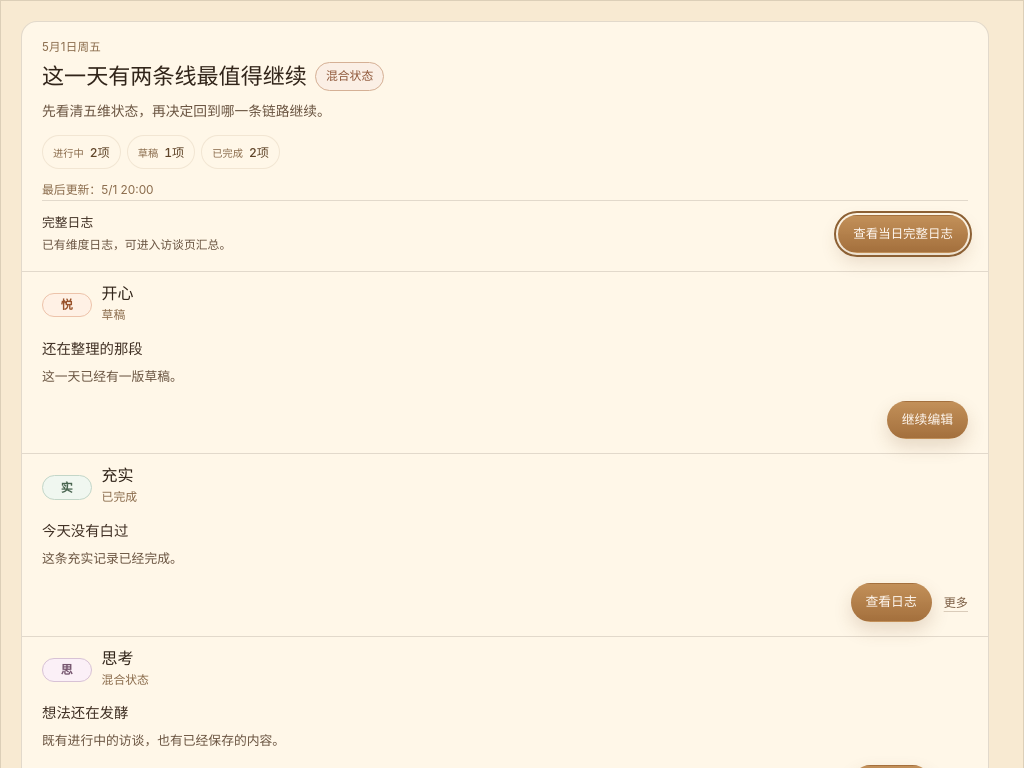
calendar day shell › traps focus in the daily journal prompt and restores focus on close
The image size is (1024, 768).
Click the button "查看当日完整日志" at (903, 234), box top-left (838, 215), bottom-right (968, 253)
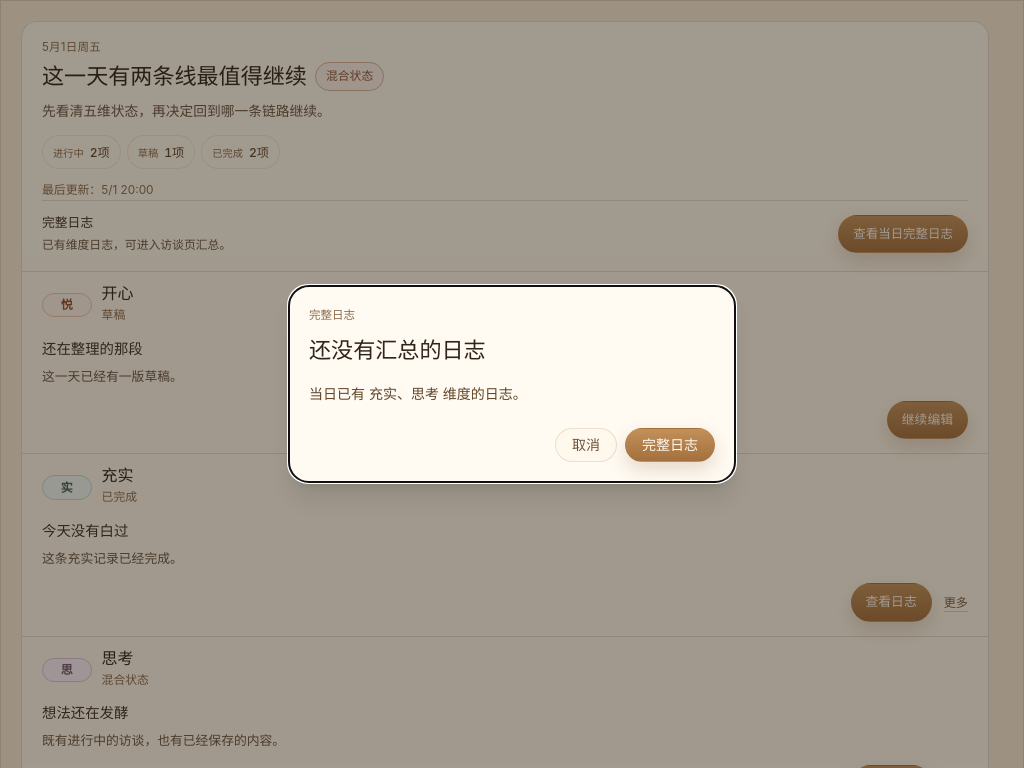
Press Tab
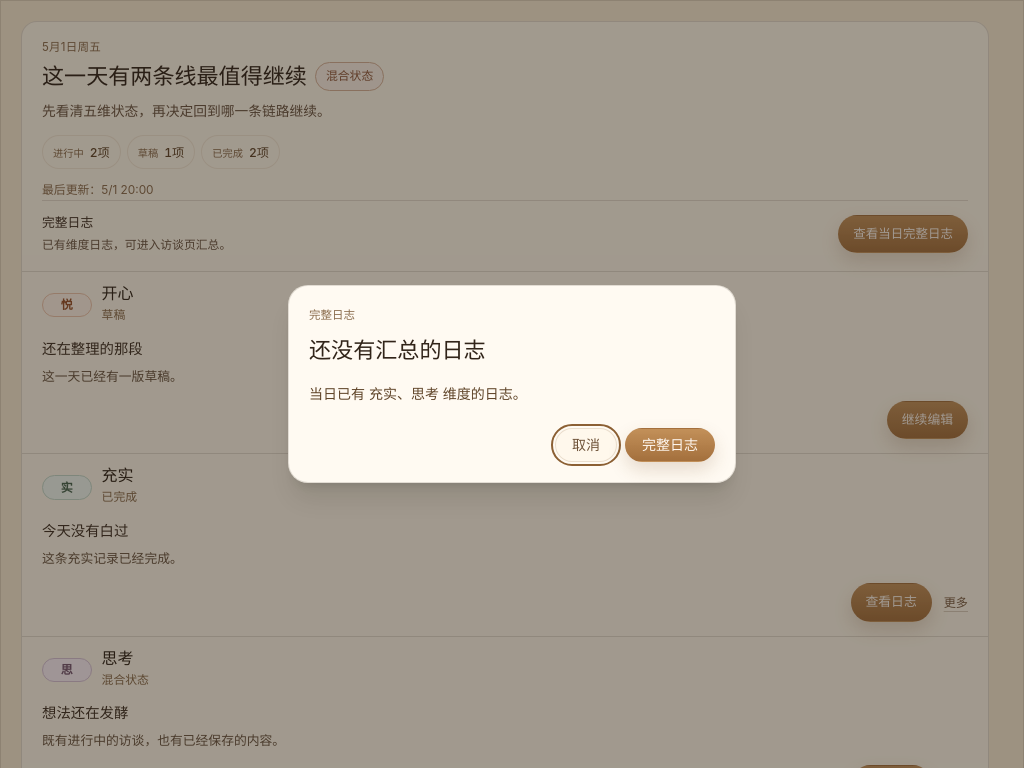
Press Tab
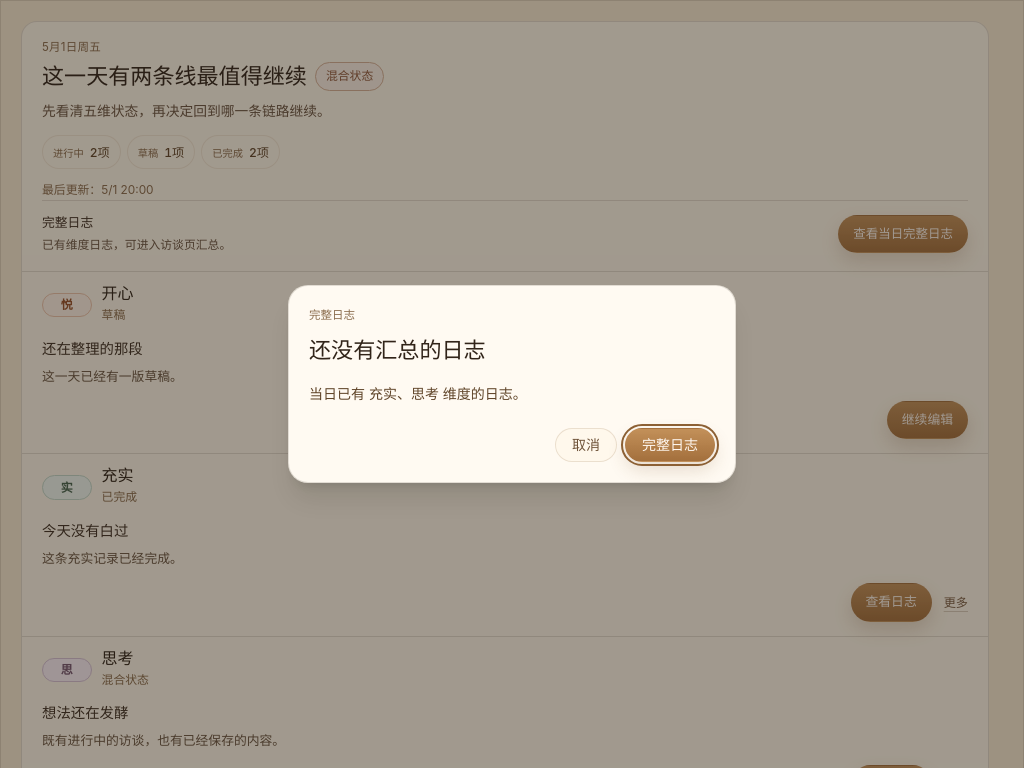
Press Tab
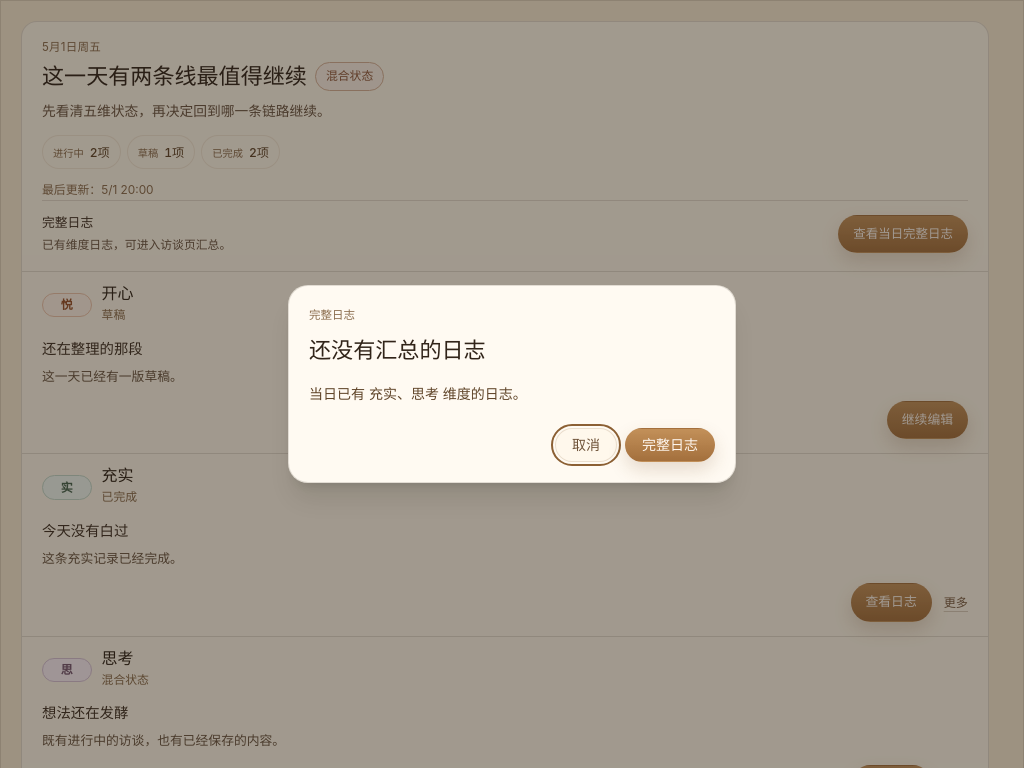
Press Escape
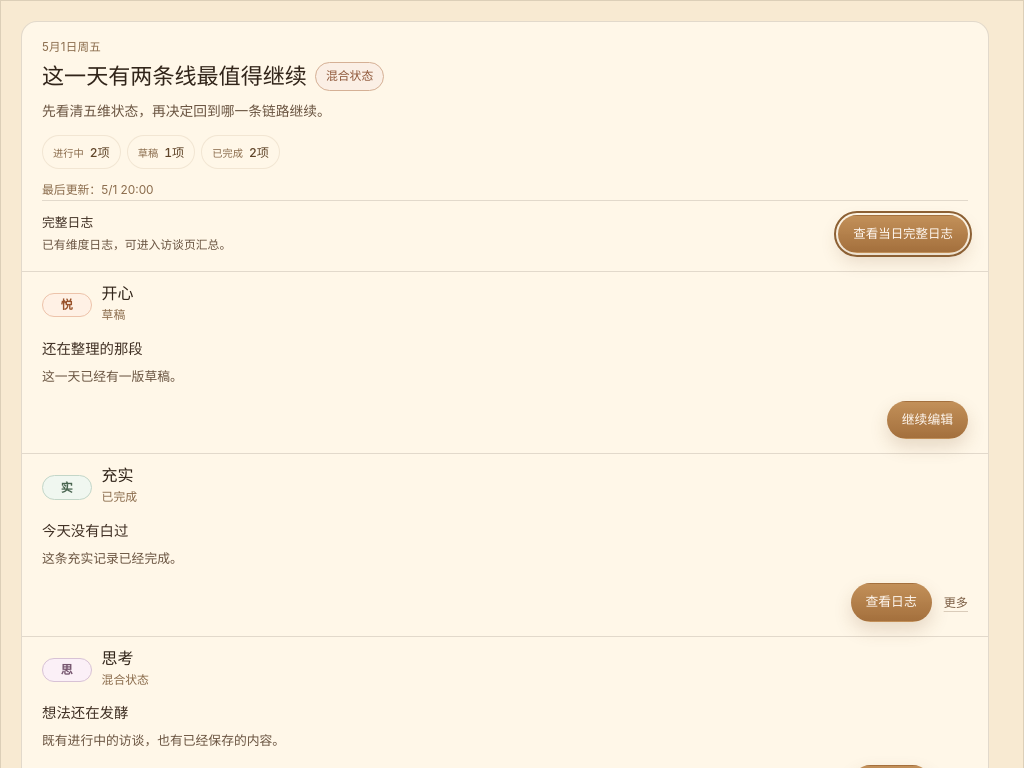
expect the heading "还没有汇总的日志" is gone: met
